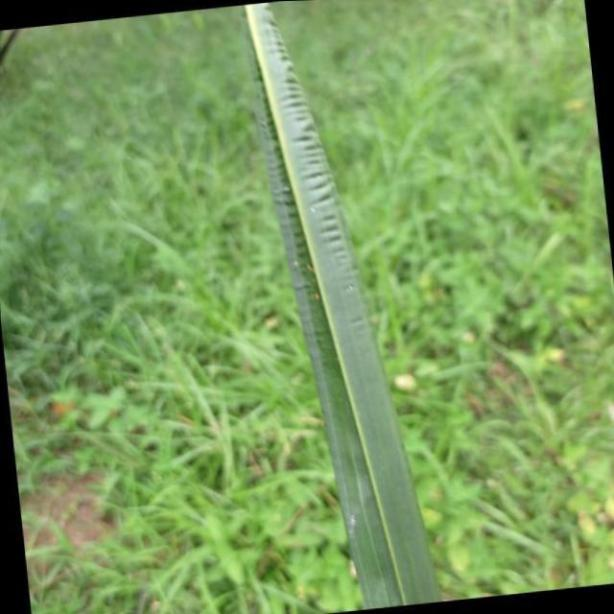Boron: (229, 2, 448, 609)
